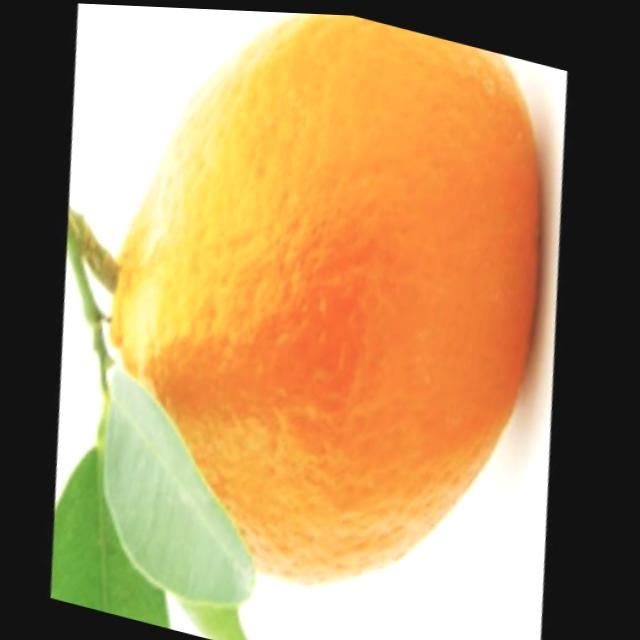Orange: (39, 2, 601, 631)
